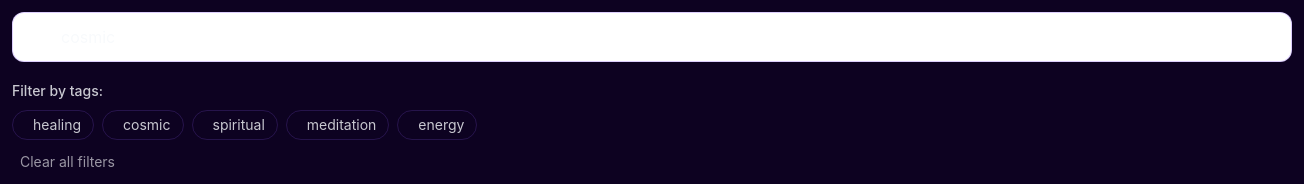
Scenario: SearchFilter › Search Suggestions › shows suggestions on focus with existing query
The image size is (1304, 184).
Click the field showing "cosmic": {"x": 652, "y": 37} [12,12,1292,62]
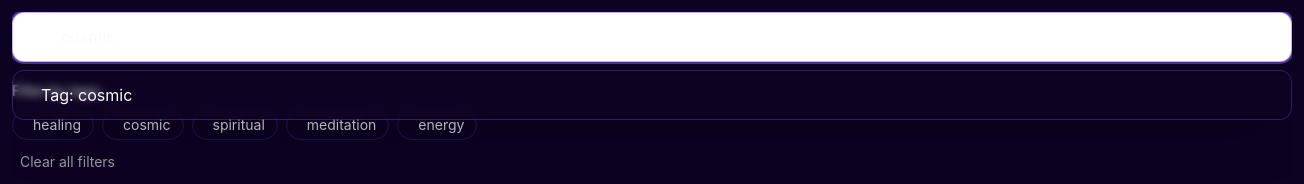
Expected: the text "Tag: cosmic" is shown, [41,83,132,107]
